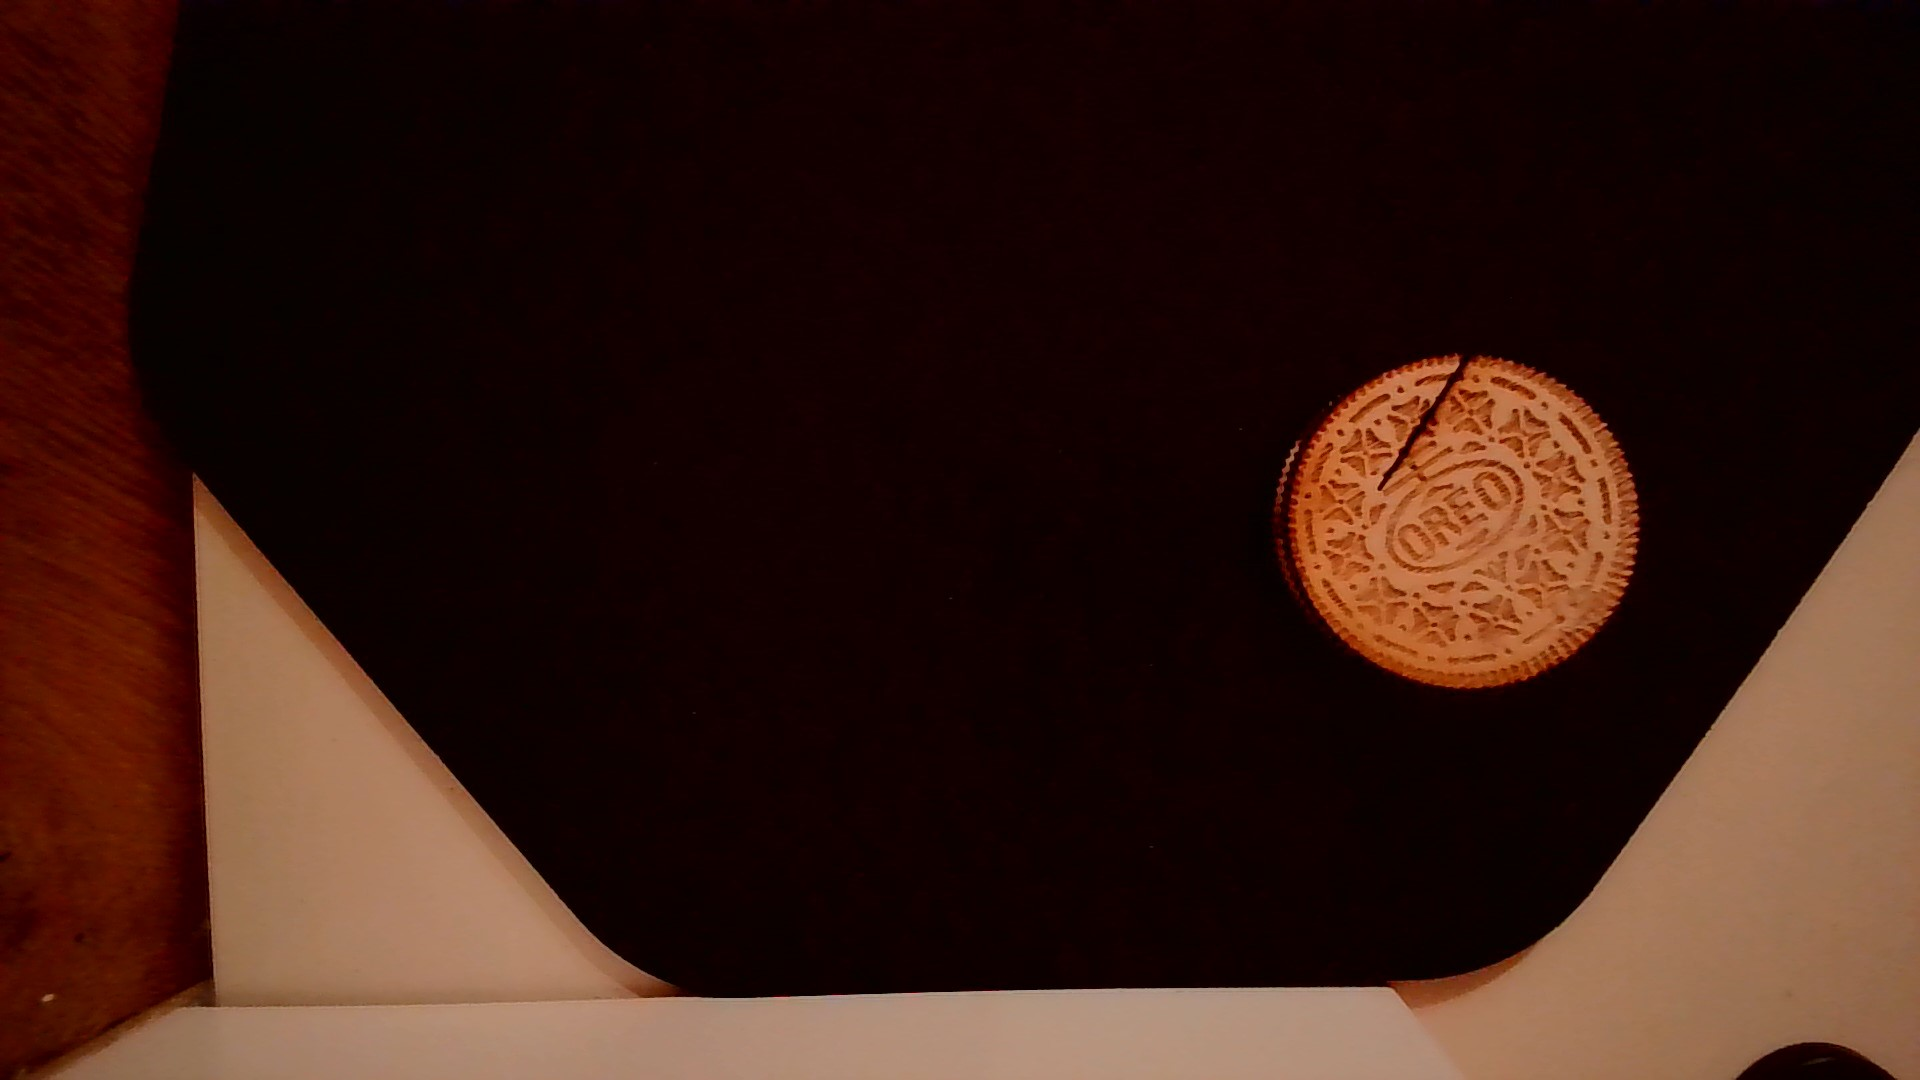Fissure: (1365, 344, 1487, 491)
Oréo: (1265, 345, 1648, 698)
